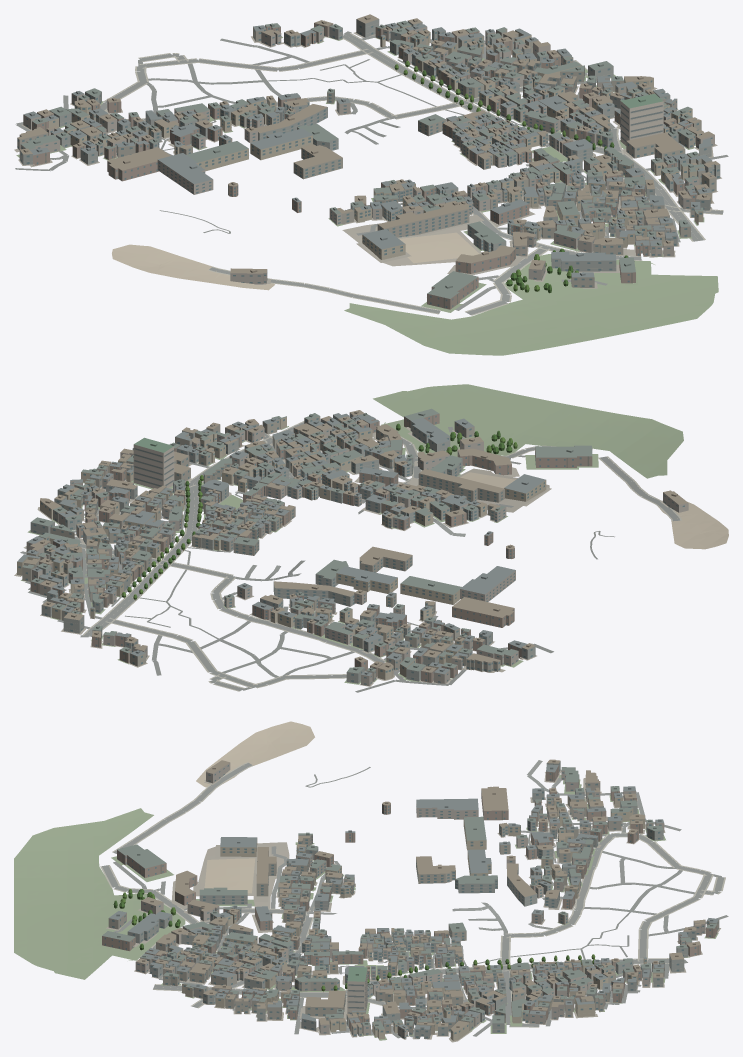
3 renders of one model, top to bottom at view 1: azimuth 30°, elevation 25°; view 2: azimuth 150°, elevation 25°; view 3: azimuth 270°, elevation 25°, orthographic. The views are drawn at different scales.
Parts seen in each view (by area): view 1: context-osm-buildings, context-building-plinths, context-osm-roads, context-osm-sidewalks, context-villa-infill; view 2: context-osm-buildings, context-building-plinths, context-osm-roads, context-osm-sidewalks, context-villa-infill; view 3: context-osm-buildings, context-building-plinths, context-osm-roads, context-osm-sidewalks, context-villa-infill.
Boxes of the visible parts, x1,y1,x2,y2 form: context-osm-buildings: [17, 14, 720, 309]; context-building-plinths: [14, 32, 721, 355]; context-osm-roads: [15, 31, 728, 314]; context-osm-sidewalks: [100, 33, 723, 315]; context-villa-infill: [394, 60, 628, 293]; context-osm-buildings: [17, 408, 688, 686]; context-building-plinths: [14, 384, 728, 686]; context-osm-roads: [20, 422, 679, 692]; context-osm-sidewalks: [23, 421, 681, 691]; context-villa-infill: [121, 423, 517, 600]; context-osm-buildings: [102, 759, 719, 1040]; context-building-plinths: [14, 721, 720, 1042]; context-osm-roads: [102, 760, 728, 1038]; context-osm-sidewalks: [100, 762, 725, 1027]; context-villa-infill: [113, 889, 595, 991].
Bounding box in the file's own units: 589 × 45.86 × 645.
